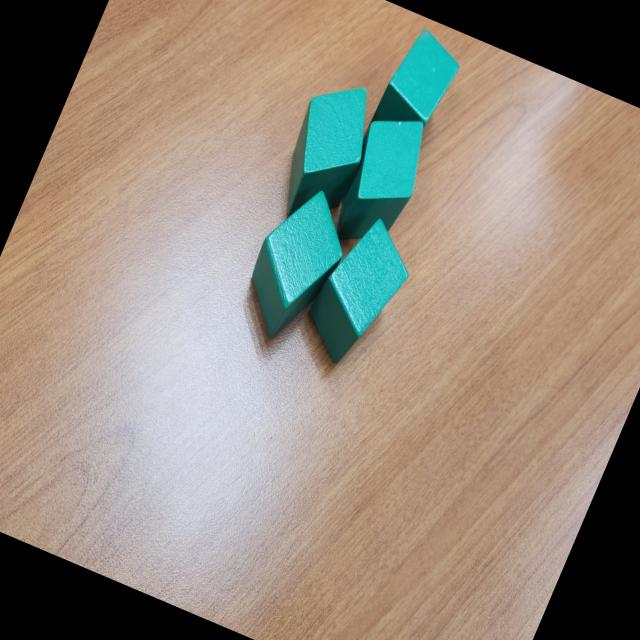green: (227, 176, 363, 354), (292, 204, 426, 378), (264, 70, 388, 236), (322, 100, 442, 258), (365, 21, 469, 155)
